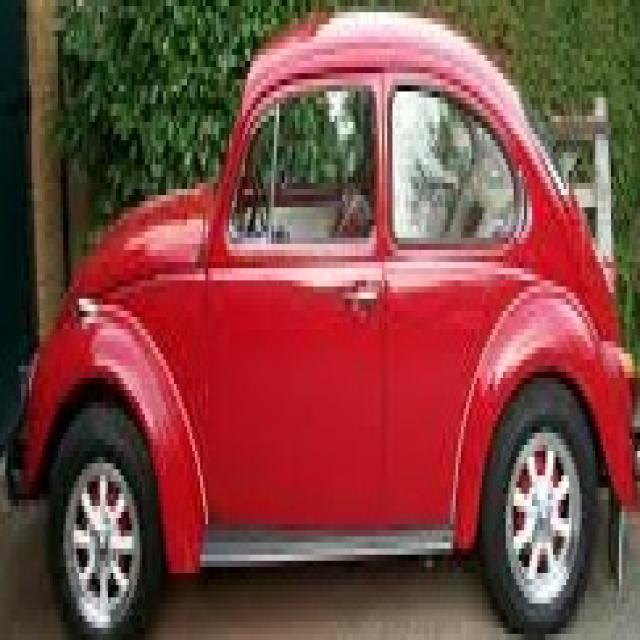red: (16, 12, 640, 634)
